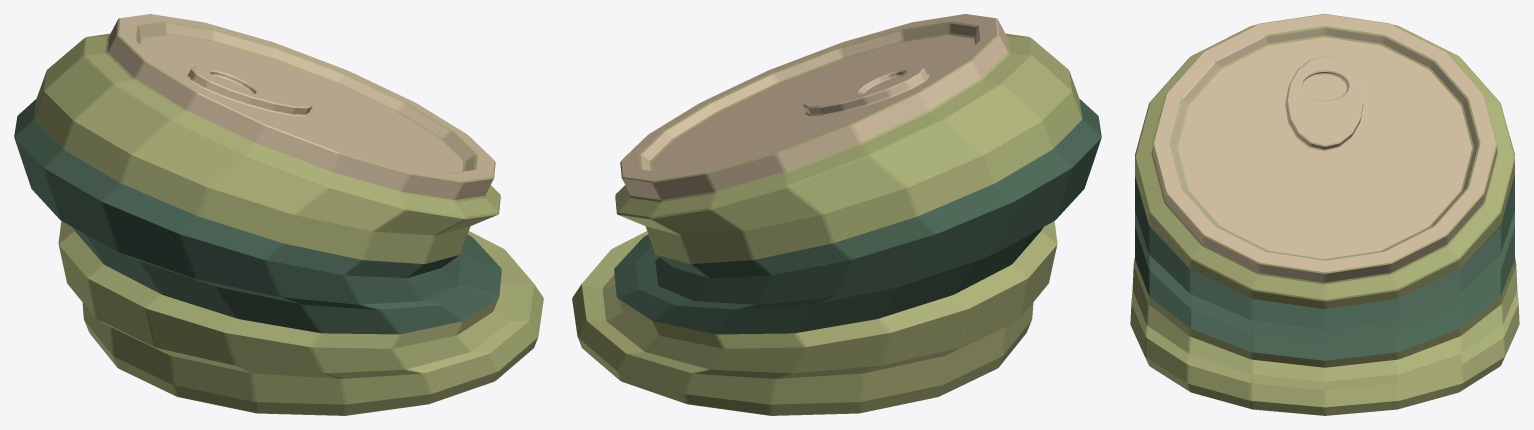
File: Can_2_Partyassets.fbx
The picture shows the model from 3 angles, left to right: view 1: azimuth 30°, elevation 25°; view 2: azimuth 150°, elevation 25°; view 3: azimuth 270°, elevation 25°; orthographic projection. The views are drawn at different scales.
Parts seen in each view (by area): view 1: Can_2_Partyassets; view 2: Can_2_Partyassets; view 3: Can_2_Partyassets.
Part boxes in pixels (x1,y1,x2,y2): Can_2_Partyassets: (14, 14, 543, 415); Can_2_Partyassets: (572, 14, 1101, 415); Can_2_Partyassets: (1130, 14, 1519, 415).
Size of the model in its own units: 8.38 by 5.18 by 7.21.
